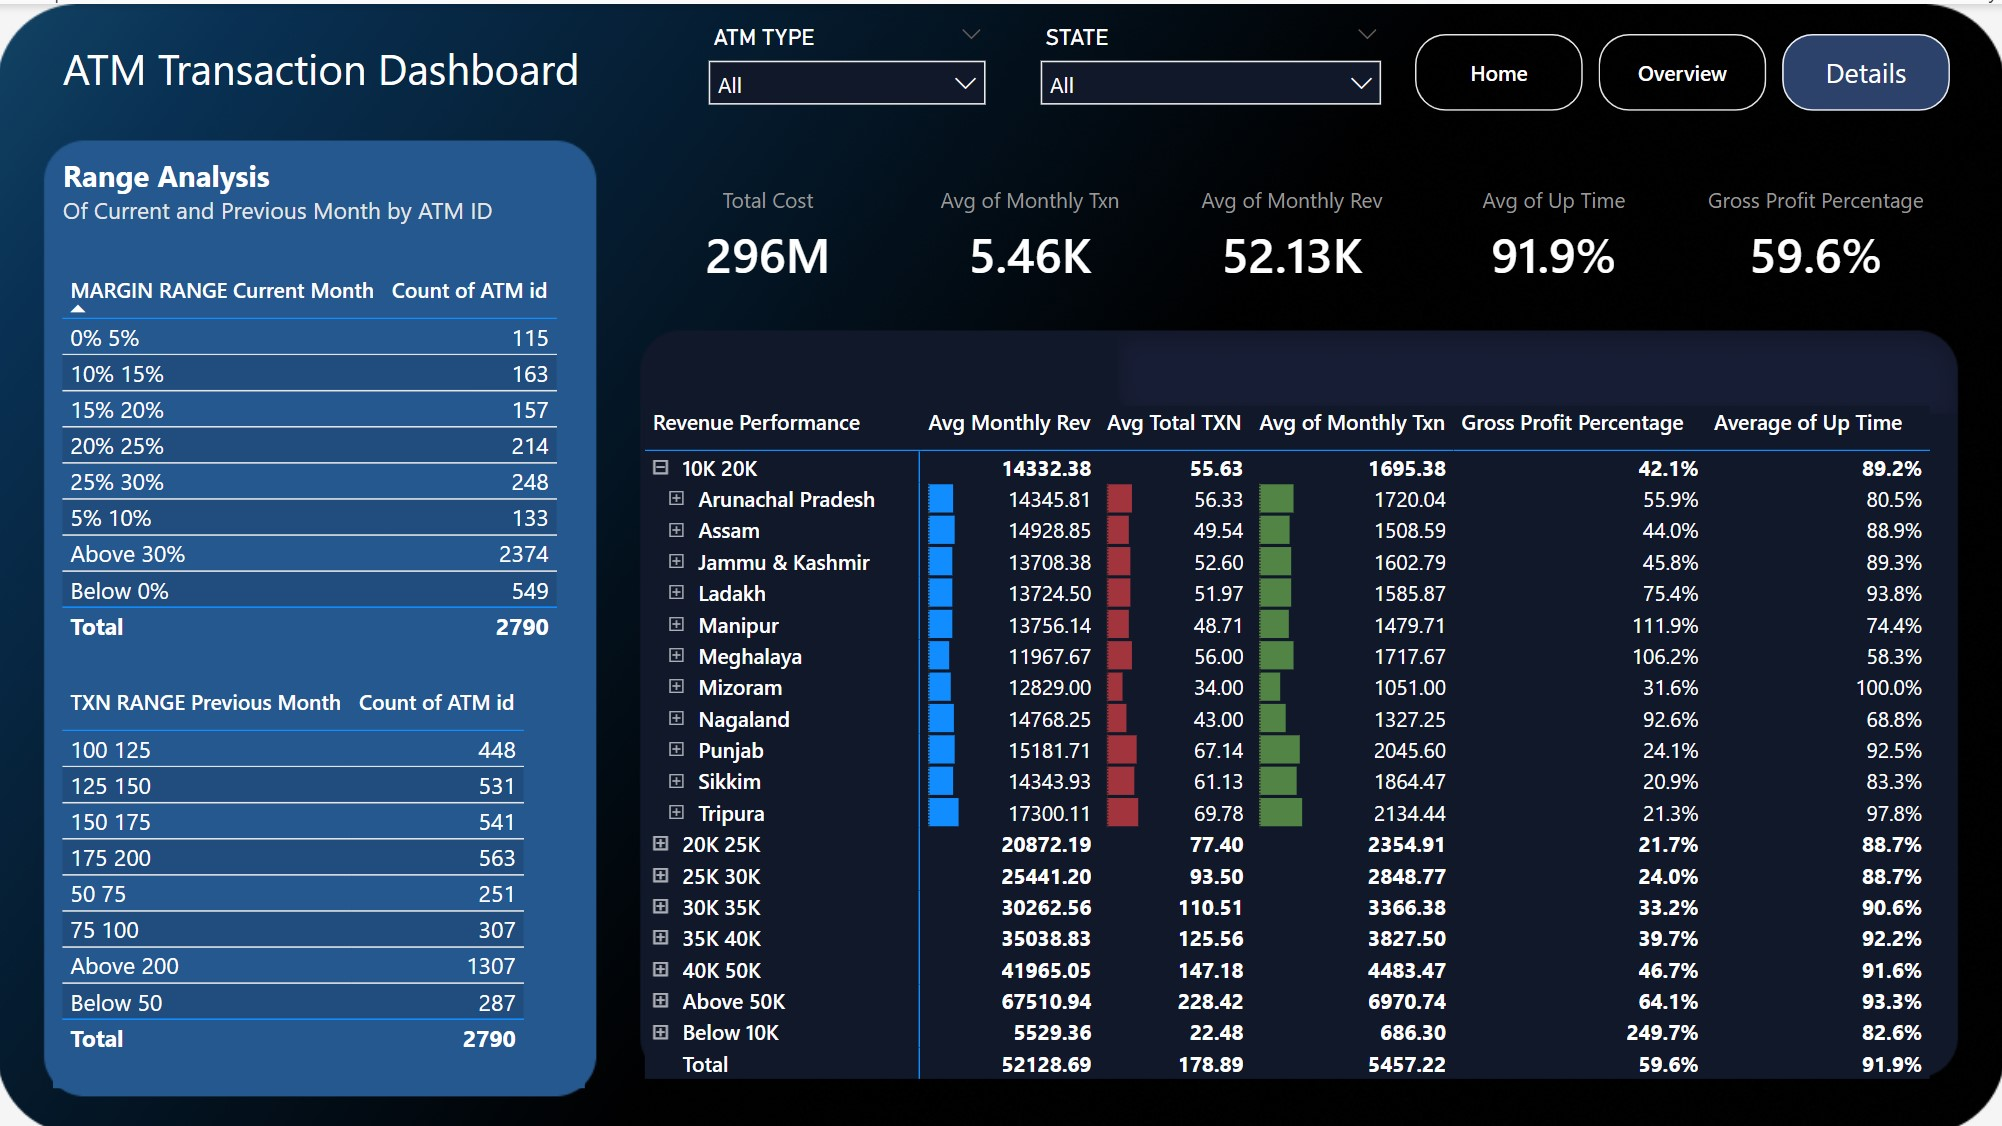

The dashboard page shown, as its layout file describes it:
{"tool":"powerbi","page":{"name":"Details","canvas":[1280,720],"ordinal":2},"visuals":[{"type":"tableEx","fields":{"Values":["Dataset.MARGIN RANGE Current Month","Dataset.ATM id"]},"box":[35.7,167,339.1,262.6],"z":0},{"type":"tableEx","fields":{"Values":["Dataset.TXN RANGE Previous Month","Dataset.ATM id"]},"box":[35.7,429.6,339.1,261.4],"z":1000},{"type":"textbox","box":[37,91.8,337.8,66.3],"z":2000},{"type":"pageNavigator","box":[903.9,19.1,342.9,49.7],"z":3000},{"type":"slicer","fields":{"Values":["Dataset.ATM TYPE"]},"box":[443.7,7.6,196.3,75],"z":4000},{"type":"pivotTable","fields":{"Rows":["Dataset.Revenue Performance","Dataset.STATE","Dataset.ATM id"],"Values":["Avg(Dataset.Monthly Rev)","Avg(Dataset.AVG Total TXN)","Avg(Dataset.Monthly Txn)","Dataset.Gross Profit Percentage","Avg(Dataset.Up Time)"]},"box":[408,251.2,838.9,441.1],"z":5000},{"type":"slicer","fields":{"Values":["Dataset.STATE"]},"box":[655.3,7.6,237.1,75.2],"z":6000},{"type":"cardVisual","fields":{"Data":["Sum(Dataset. Total Cost  )","Avg(Dataset.Monthly Txn)","Avg(Dataset.Monthly Rev)","Avg(Dataset.Up Time)","Dataset.Gross Profit Percentage"]},"box":[405.4,91.8,841.4,110.9],"z":7000},{"type":"textbox","box":[37,17.8,368.4,52.3],"z":8000}]}

Visuals, with their boxes in screenshot pixels (x1, y1, x2, y2), scaled from the page's 1280x720 canvas onto the 2002x1126 screenshot:
tableEx - Dataset.MARGIN RANGE Current Month x Dataset.ATM id: (56, 261, 586, 672)
tableEx - Dataset.TXN RANGE Previous Month x Dataset.ATM id: (56, 672, 586, 1081)
textbox: (58, 144, 586, 247)
pageNavigator: (1414, 30, 1950, 108)
slicer - Dataset.ATM TYPE: (694, 12, 1001, 129)
pivotTable - Dataset.Revenue Performance x Dataset.STATE: (638, 393, 1950, 1083)
slicer - Dataset.STATE: (1025, 12, 1396, 129)
cardVisual - Sum(Dataset. Total Cost  ) x Avg(Dataset.Monthly Txn): (634, 144, 1950, 317)
textbox: (58, 28, 634, 110)
